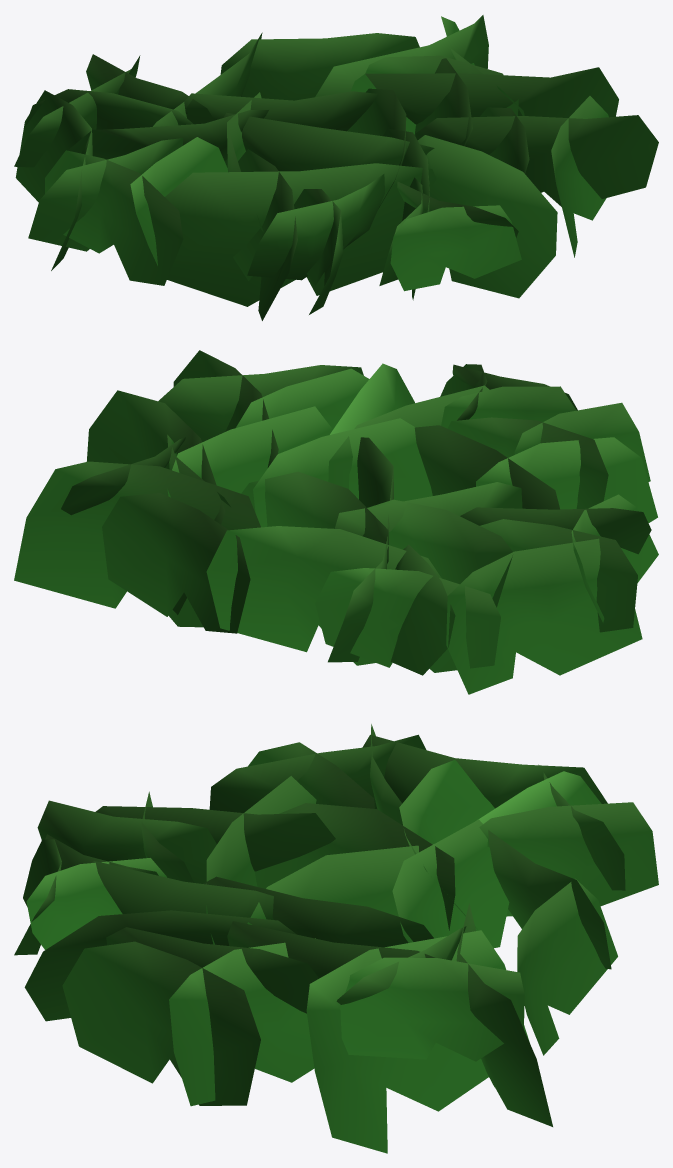
Rendered from grass.obj.
The picture shows the model from 3 angles, top to bottom: view 1: azimuth 30°, elevation 25°; view 2: azimuth 150°, elevation 25°; view 3: azimuth 270°, elevation 25°; orthographic projection. The views are drawn at different scales.
Parts seen in each view (by area): view 1: Grass_Generic_Small; view 2: Grass_Generic_Small; view 3: Grass_Generic_Small.
Part boxes in pixels (bbox=[...]): Grass_Generic_Small: bbox=[14, 15, 658, 320]; Grass_Generic_Small: bbox=[14, 350, 658, 694]; Grass_Generic_Small: bbox=[14, 724, 658, 1153].
Bounding box in the file's own units: 1.98 × 0.5164 × 1.71.
